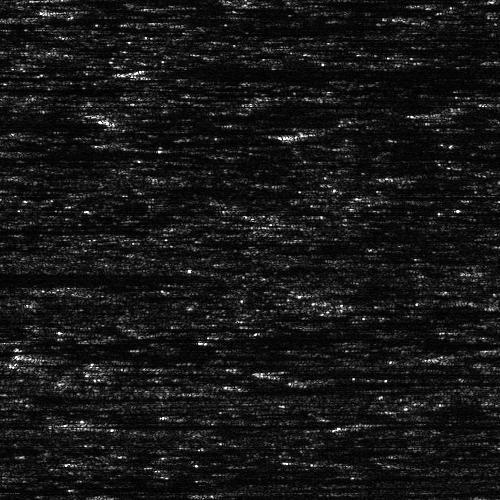object: (82, 58, 197, 85), (415, 342, 500, 357), (75, 135, 128, 148), (34, 107, 127, 114), (266, 129, 339, 136), (320, 421, 393, 428), (0, 13, 51, 22), (336, 193, 399, 198), (0, 495, 42, 500), (401, 112, 442, 117)
shadow: (140, 58, 408, 85), (102, 135, 231, 148), (10, 13, 195, 22), (357, 421, 500, 428), (16, 495, 162, 500), (303, 129, 370, 136), (80, 107, 147, 114), (80, 421, 152, 426), (422, 112, 493, 117), (0, 273, 39, 282), (368, 193, 434, 198), (0, 243, 37, 248)
